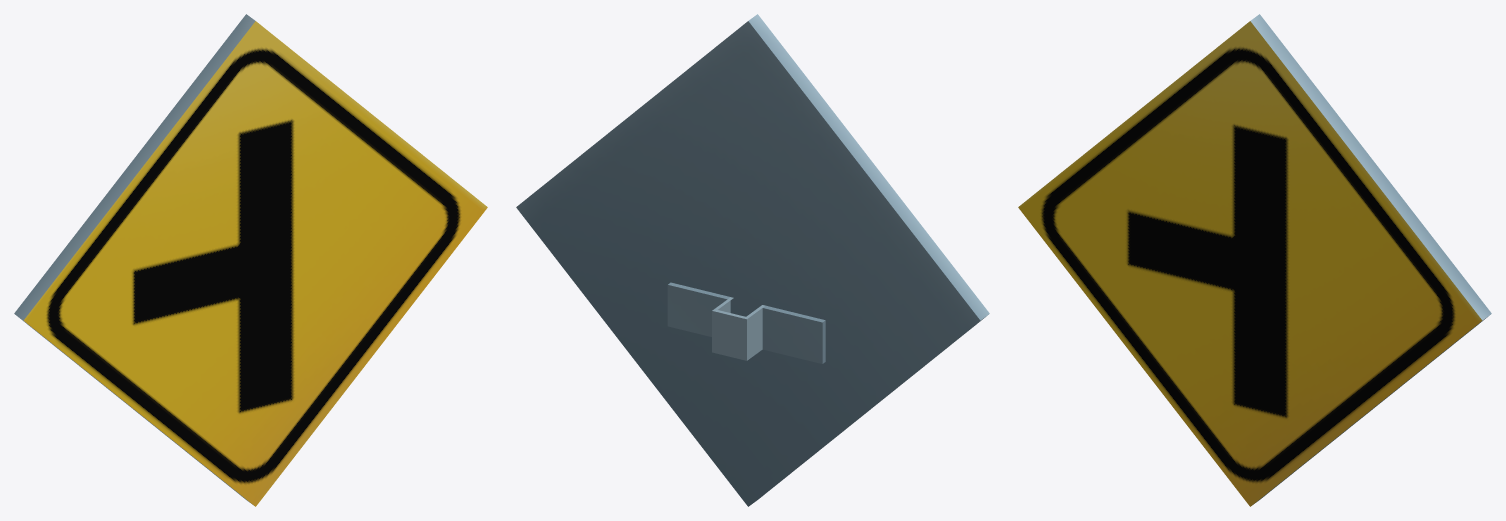
The model's file is Sign20.fbx.
3 views of the same model, side by side, from view 1: azimuth 30°, elevation 25°; view 2: azimuth 150°, elevation 25°; view 3: azimuth 330°, elevation 25° (orthographic).
Parts seen in each view (by area): view 1: Sign20; view 2: Sign20; view 3: Sign20.
Boxes of the visible parts, x1,y1,x2,y2 form: Sign20: (14,14,487,506); Sign20: (516,14,989,506); Sign20: (1018,14,1491,506).
Bounding box in the file's own units: 1.41 × 0.1489 × 1.41.
